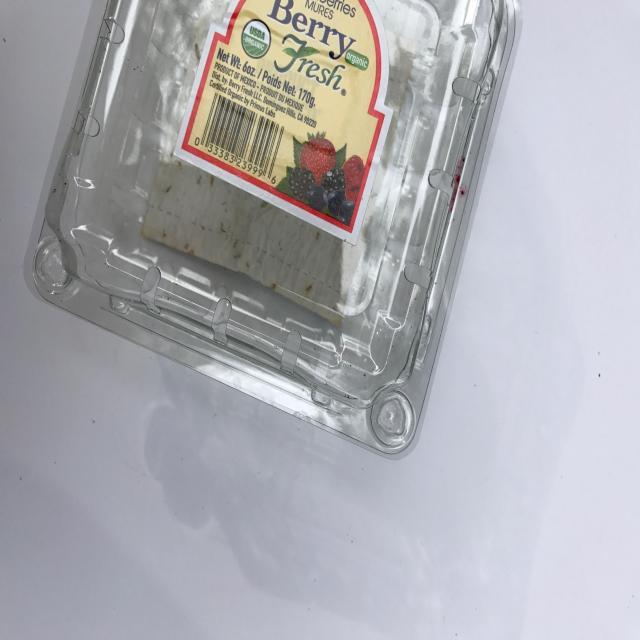plastic: (21, 1, 526, 462)
